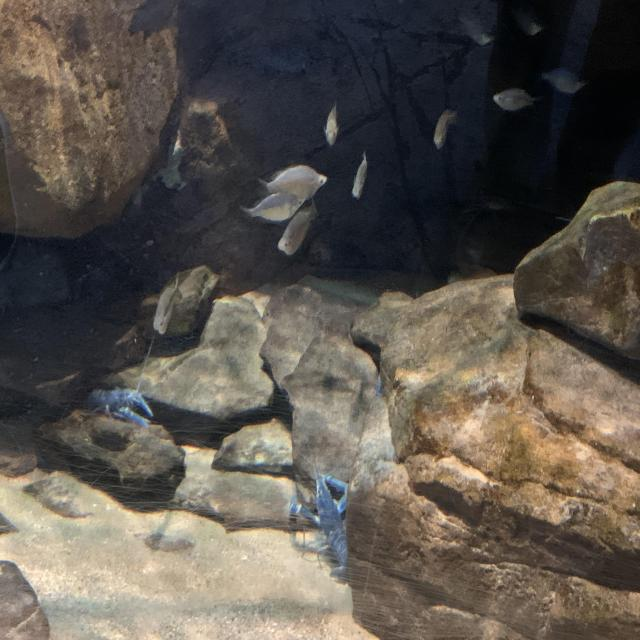fish: (257, 162, 329, 204), (277, 199, 321, 261), (236, 192, 305, 226), (154, 273, 182, 335), (539, 64, 588, 98), (431, 104, 461, 154), (492, 86, 540, 115), (349, 148, 371, 204), (322, 100, 341, 150), (470, 31, 498, 51)
